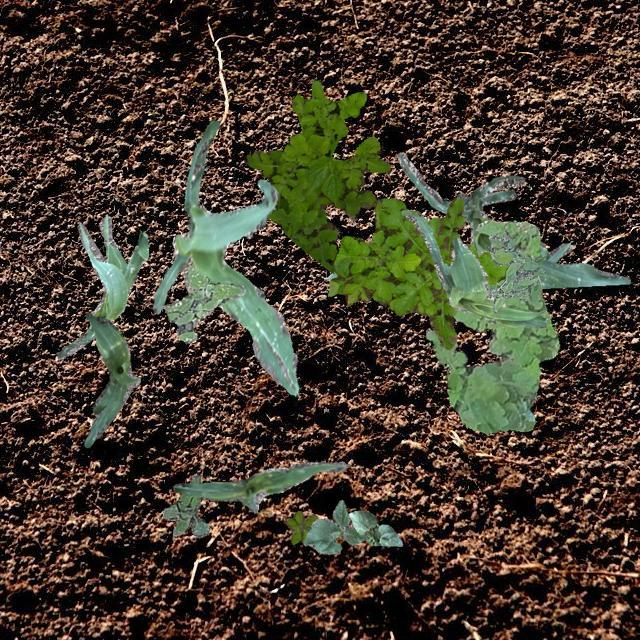crop: (152, 120, 298, 394), (396, 152, 630, 290), (399, 208, 546, 326), (56, 214, 148, 358), (172, 460, 346, 512), (84, 312, 140, 446), (324, 214, 428, 278), (302, 498, 368, 554), (346, 510, 402, 546)
weed: (424, 220, 558, 432), (243, 80, 389, 272), (326, 196, 506, 348), (162, 262, 244, 342), (488, 230, 544, 310), (162, 472, 208, 536), (284, 509, 316, 544)
